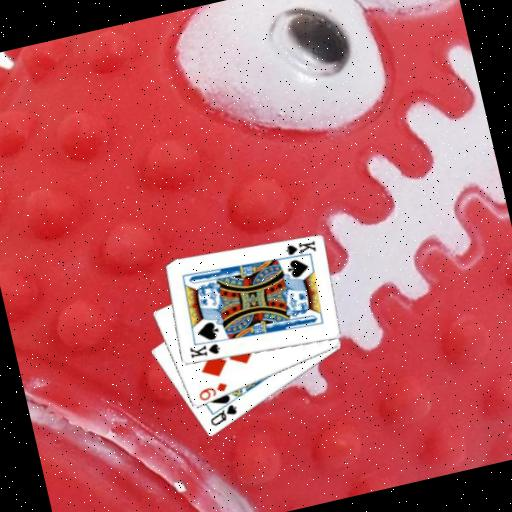9D: (194, 378, 231, 404)
KS: (278, 236, 319, 264), (186, 338, 223, 362)
QS: (205, 401, 242, 429)
